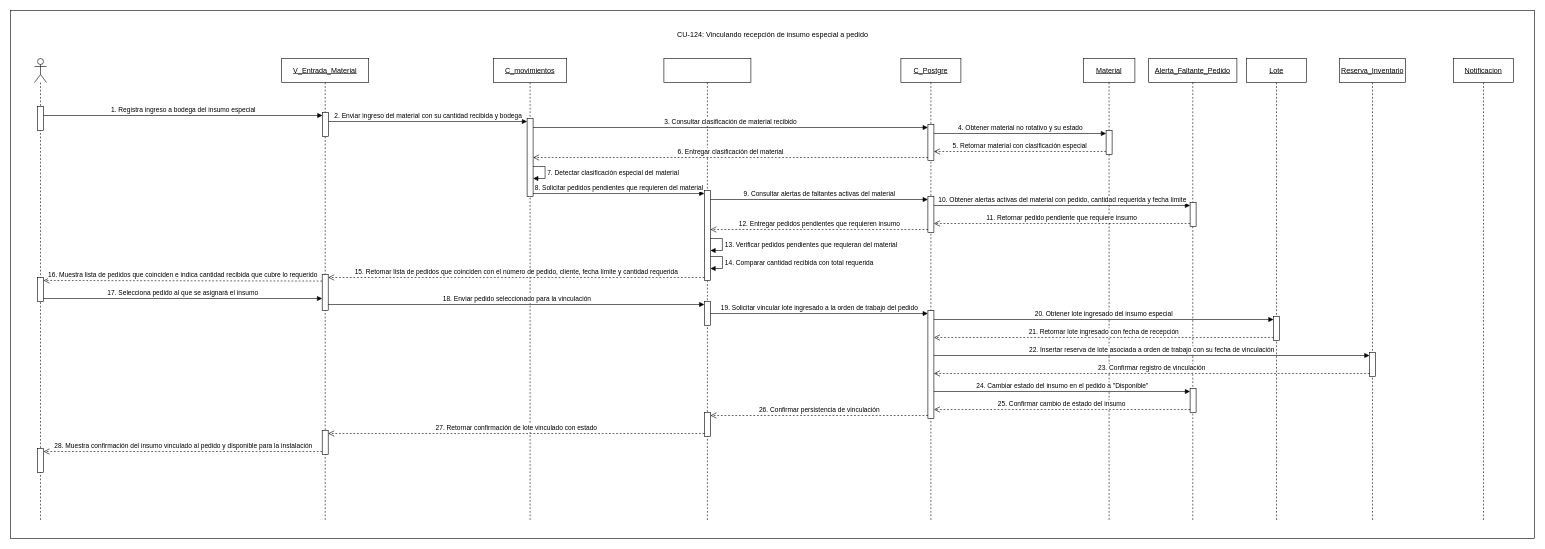
Some shapes in this 1545 by 549 pixel diagram are drawn without their labels. The centre of each missing label's shape, as x and y in pixels:
"C_insumosEspeciales" belongs at point 707,289.
"JOP" belongs at point 40,289.
